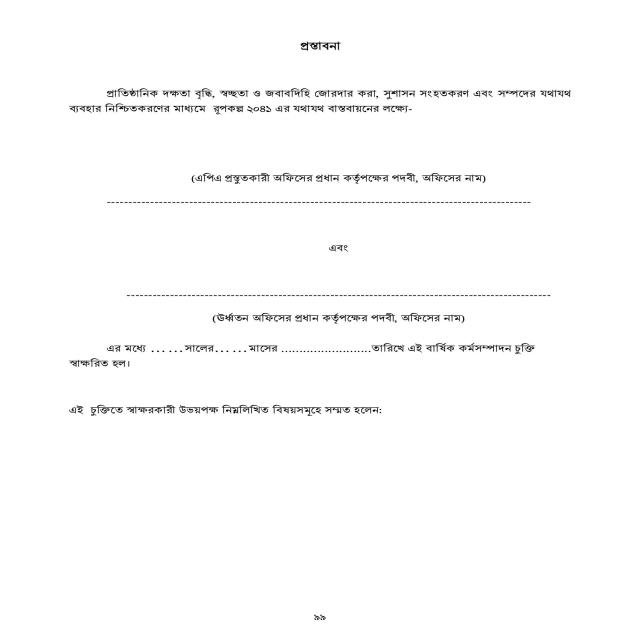page number: (313, 613, 326, 621)
paragraph: (67, 87, 573, 115), (66, 341, 539, 370), (66, 404, 382, 418)
text: (189, 171, 486, 185), (209, 311, 467, 327), (326, 243, 352, 253)
title: (297, 40, 343, 54)
